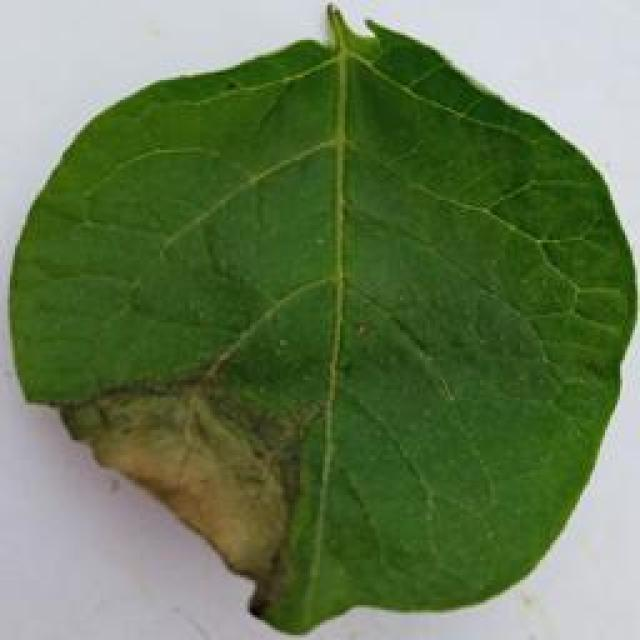Potato_Late_Blight: (0, 2, 640, 640)
